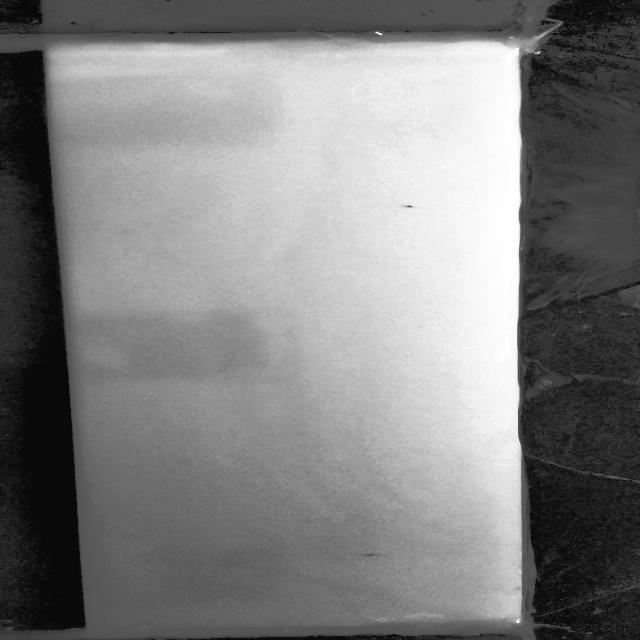shrimp: (347, 543, 398, 565), (396, 198, 426, 212)
